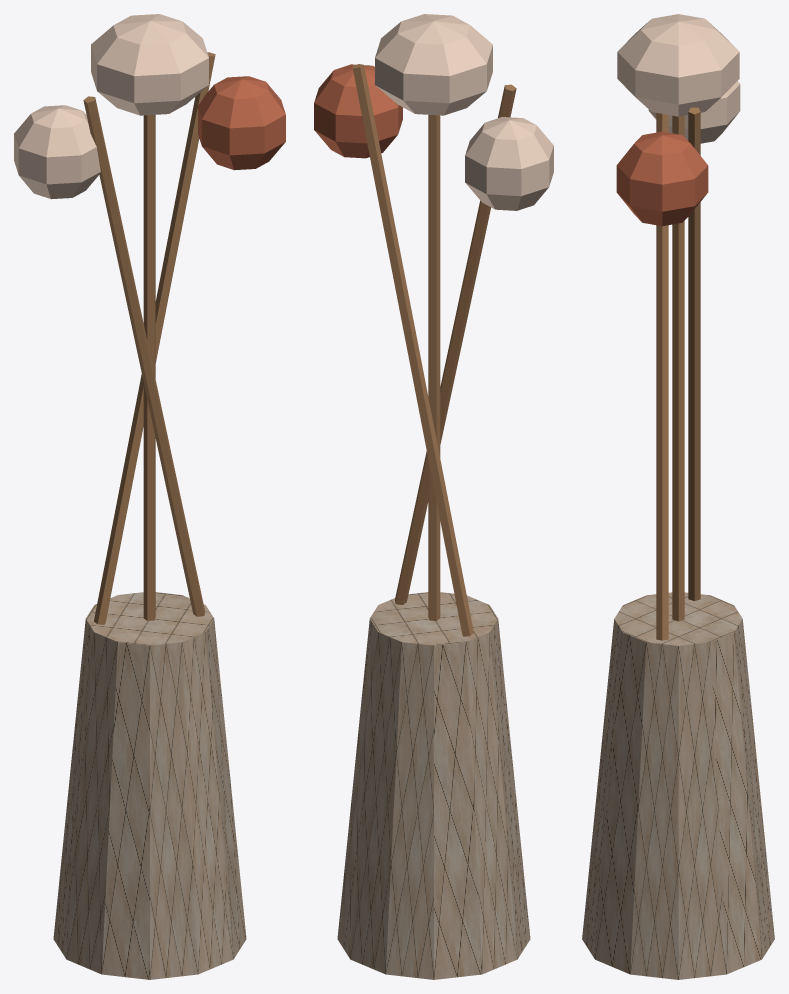
File: vaso_decor.glb
The picture shows the model from 3 angles, left to right: view 1: azimuth 30°, elevation 25°; view 2: azimuth 150°, elevation 25°; view 3: azimuth 270°, elevation 25°; orthographic projection.
Visible parts, largest first — view 1: vaso_decor; view 2: vaso_decor; view 3: vaso_decor.
Part boxes in pixels (box(x1,y1,x2,y2)): vaso_decor: box(14, 14, 285, 979); vaso_decor: box(314, 14, 553, 979); vaso_decor: box(582, 14, 774, 979).
Size of the model in its own units: 0.177 by 0.63 by 0.12.
Materials: 4 (1 with a texture image).
